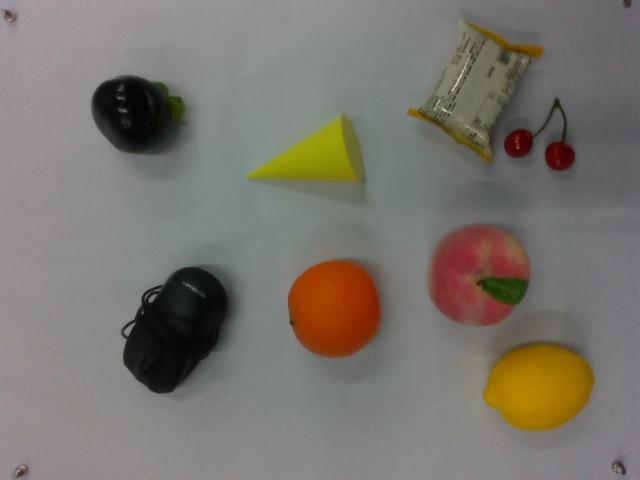cherry: (505, 96, 578, 175)
cone: (243, 111, 366, 189)
dessert: (411, 21, 540, 159)
lemon: (485, 344, 595, 431)
mangosteen: (88, 73, 187, 155)
mouse: (119, 265, 232, 395)
orange: (284, 259, 382, 359)
peach: (425, 218, 533, 330)
